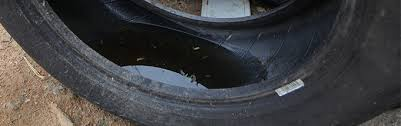tire: (1, 1, 401, 126)
